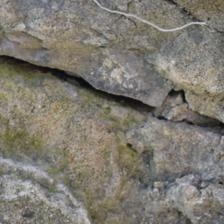Crack: (3, 27, 218, 112)
